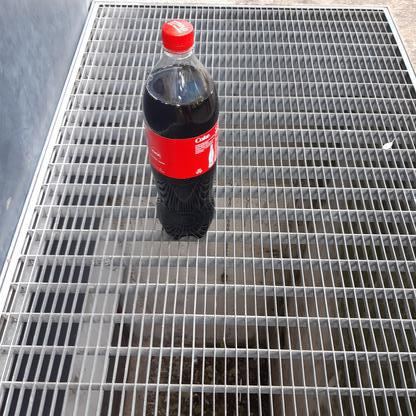coca-cola: (139, 16, 221, 244)
